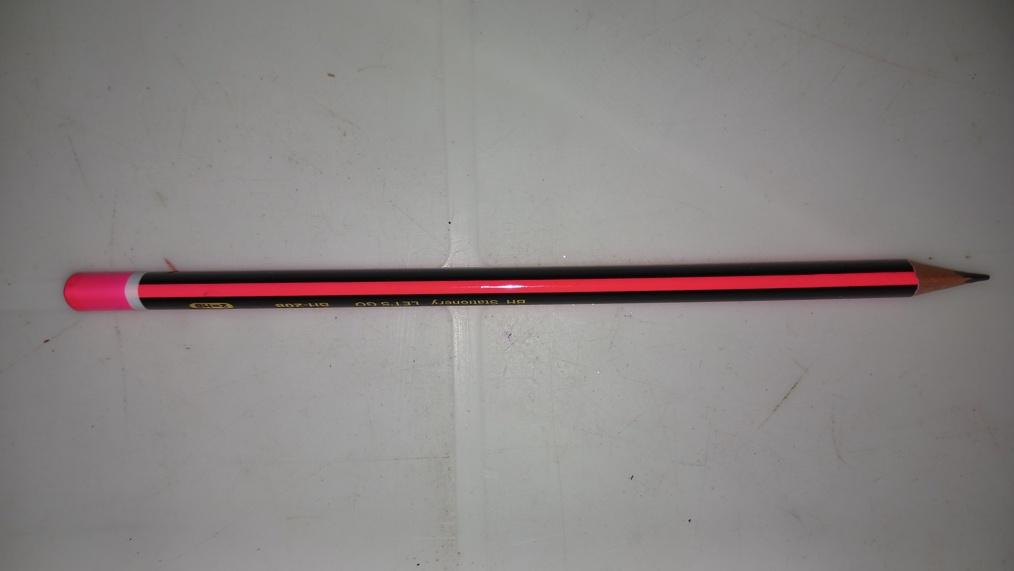Pencil: (64, 261, 992, 309)
